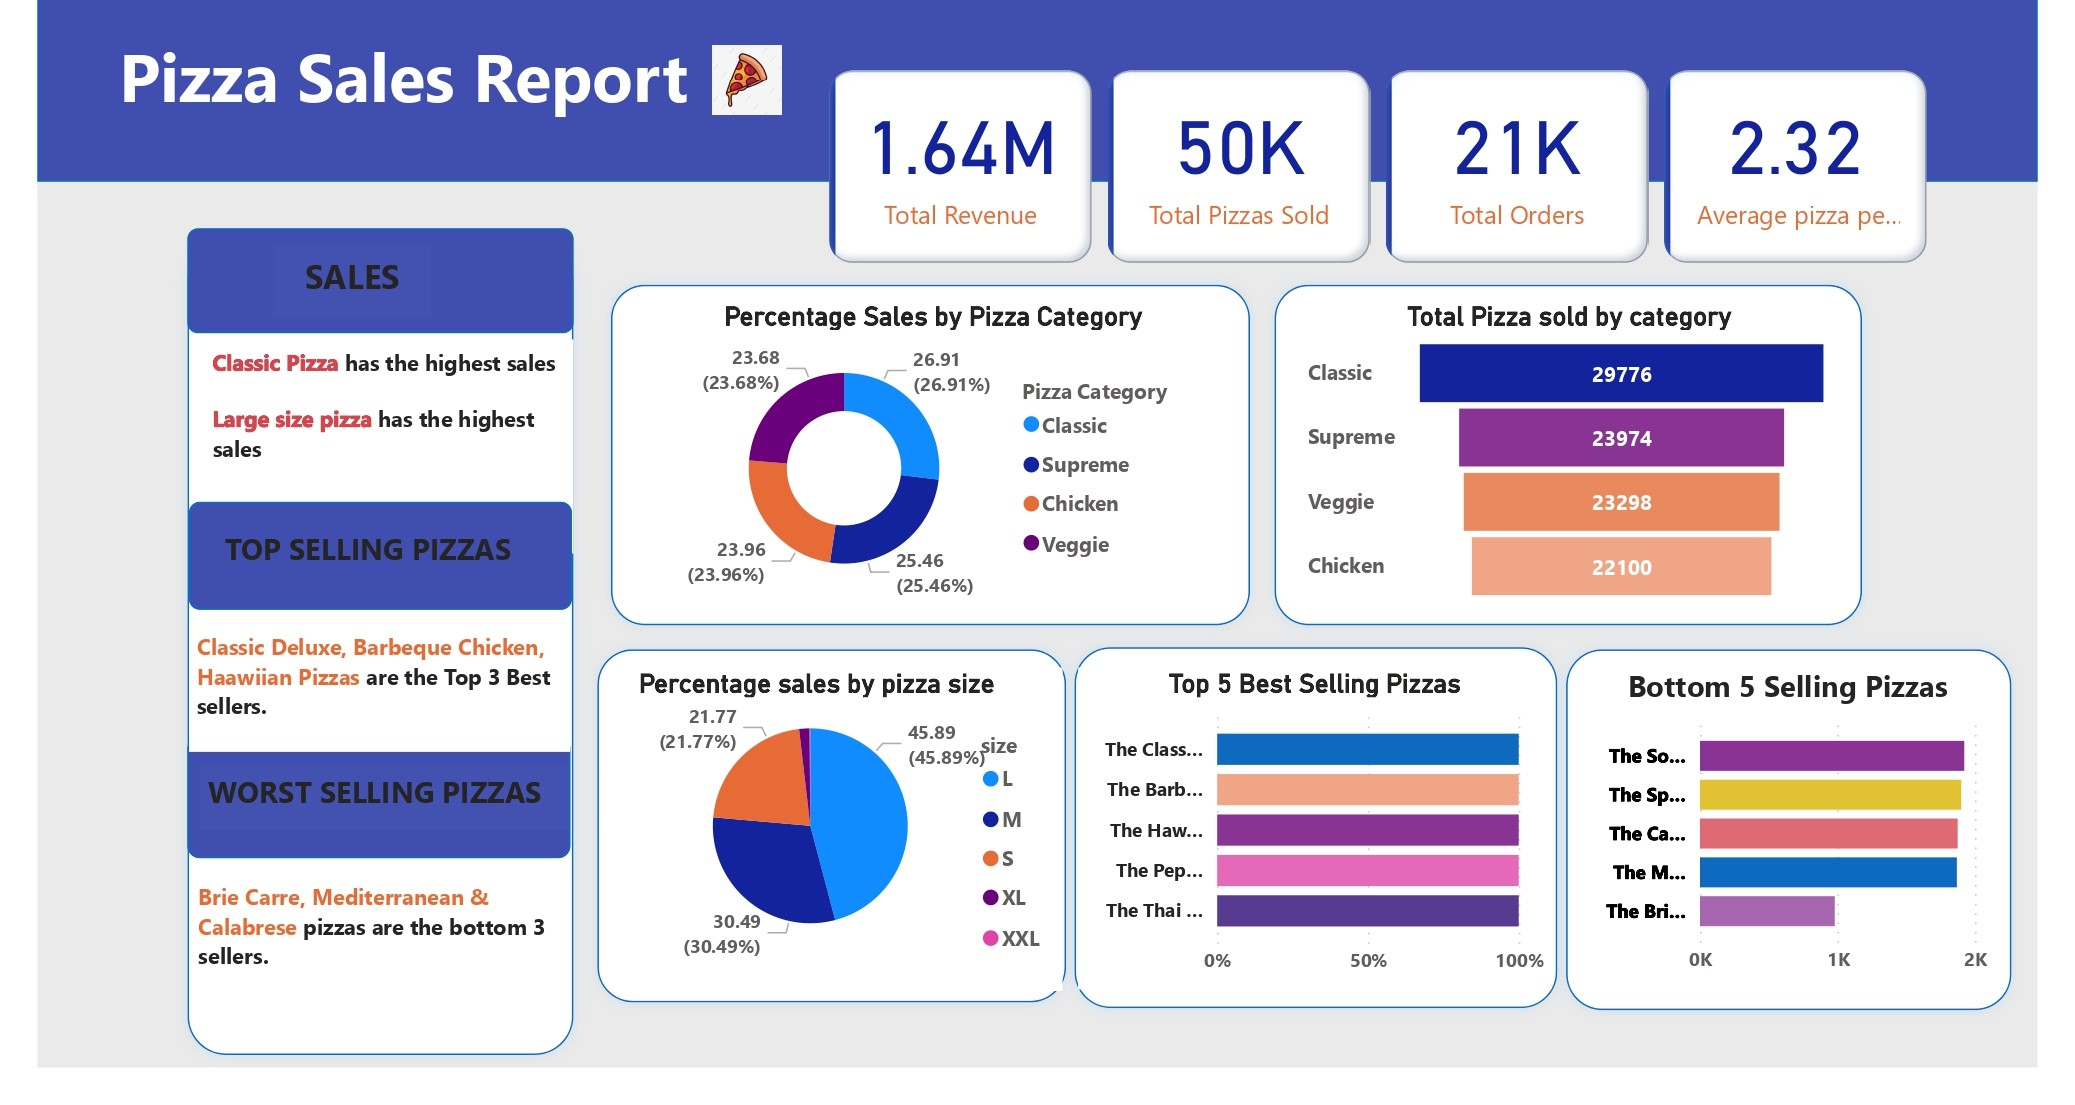

The dashboard page shown, as its layout file describes it:
{"tool":"powerbi","page":{"name":"Page 1","canvas":[1280,720],"ordinal":0},"visuals":[{"type":"shape","box":[0,0,1280.3,153.5],"z":0},{"type":"cardVisual","fields":{"Data":["Sum(toal revenue.round(SUM(quantity * price), 2))","Sum(toal sold  pizza.total_quantity)","Sum(total orders.total_orders)","Sum(average pizza sold.Average_Pizzas_Per_Order)"]},"box":[502.1,76.7,714.9,133.3],"z":1000},{"type":"shape","box":[783.9,211.1,392,234],"z":2000},{"type":"shape","box":[359.4,211.1,424.5,234],"z":3000},{"type":"shape","box":[969.6,443.8,301.5,247.2],"z":4000},{"type":"shape","box":[656.1,442.6,324.4,247.2],"z":5000},{"type":"shape","box":[349.7,443.8,316,242.4],"z":6000},{"type":"textbox","box":[219.4,2.7,407.9,74],"z":7000},{"type":"image","box":[573.5,13.5,107.7,53.8],"z":8000},{"type":"pieChart","title":"Percentage sales by pizza size ","fields":{"Y":["Sum(pizza size.percentage_of_sales)"],"Category":["pizza size.size"]},"box":[379.9,464.3,276.2,206.2],"z":9000},{"type":"donutChart","fields":{"Category":["percentage.category"],"Y":["Sum(percentage.percentage_of_sales)"]},"box":[396.8,229.1,353.4,197.8],"z":10000},{"type":"shape","box":[87.5,183.1,263.9,537.1],"z":11000},{"type":"funnel","fields":{"Category":["pizza category sales.category"],"Y":["Sum(pizza category sales.quantity_sold)"]},"box":[808,229.1,344.9,197.8],"z":12000},{"type":"shape","box":[95.6,183.1,247.7,67.3],"z":13000},{"type":"textbox","box":[150.8,193.9,101,45.8],"z":14000},{"type":"textbox","box":[107.3,254.5,235.2,136.3],"z":15000},{"type":"hundredPercentStackedBarChart","title":"Top 5 Best Selling Pizzas","fields":{"Category":["Top 5 pizza.name"],"Y":["Sum(Top 5 pizza.total_quantity_sold)"]},"box":[666.4,464.5,302.9,206],"z":16000},{"type":"clusteredBarChart","title":"Bottom 5 Selling Pizzas","fields":{"Category":["bottom 5 pizza.name"],"Y":["Sum(bottom 5 pizza.total_quantity_sold)"]},"box":[986.5,463.1,266.5,206.2],"z":17000},{"type":"shape","box":[96.9,358.1,245,68.7],"z":18000},{"type":"shape","box":[95.6,507.5,245,78.1],"z":19000},{"type":"textbox","box":[107.7,370.2,207.3,56.5],"z":20000},{"type":"textbox","box":[96.9,436.2,243.7,82.1],"z":21000},{"type":"textbox","box":[103.7,526.4,255.8,41.7],"z":22000},{"type":"textbox","box":[98.3,596.4,243.7,95.6],"z":23000}]}

Visuals, with their boxes on the page's 1280x720 design canvas (x1, y1, x2, y2). These are canvas units, not pixel positions in the 2075x1105 screenshot, which may show the page scaled, cropped or inside an application window:
shape: select_region(0, 0, 1280, 154)
cardVisual - Sum(toal revenue.round(SUM(quantity * price), 2)) x Sum(toal sold  pizza.total_quantity): select_region(502, 77, 1217, 210)
shape: select_region(784, 211, 1176, 445)
shape: select_region(359, 211, 784, 445)
shape: select_region(970, 444, 1271, 691)
shape: select_region(656, 443, 980, 690)
shape: select_region(350, 444, 666, 686)
textbox: select_region(219, 3, 627, 77)
image: select_region(574, 14, 681, 67)
"Percentage sales by pizza size " pieChart: select_region(380, 464, 656, 670)
donutChart - percentage.category x Sum(percentage.percentage_of_sales): select_region(397, 229, 750, 427)
shape: select_region(88, 183, 351, 720)
funnel - pizza category sales.category x Sum(pizza category sales.quantity_sold): select_region(808, 229, 1153, 427)
shape: select_region(96, 183, 343, 250)
textbox: select_region(151, 194, 252, 240)
textbox: select_region(107, 254, 342, 391)
"Top 5 Best Selling Pizzas" hundredPercentStackedBarChart: select_region(666, 464, 969, 670)
"Bottom 5 Selling Pizzas" clusteredBarChart: select_region(986, 463, 1253, 669)
shape: select_region(97, 358, 342, 427)
shape: select_region(96, 508, 341, 586)
textbox: select_region(108, 370, 315, 427)
textbox: select_region(97, 436, 341, 518)
textbox: select_region(104, 526, 360, 568)
textbox: select_region(98, 596, 342, 692)
